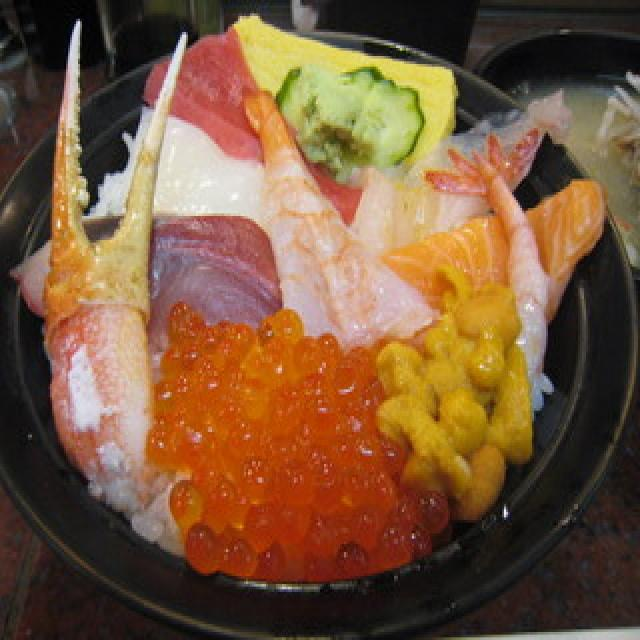刺身生食: (0, 16, 636, 635)
